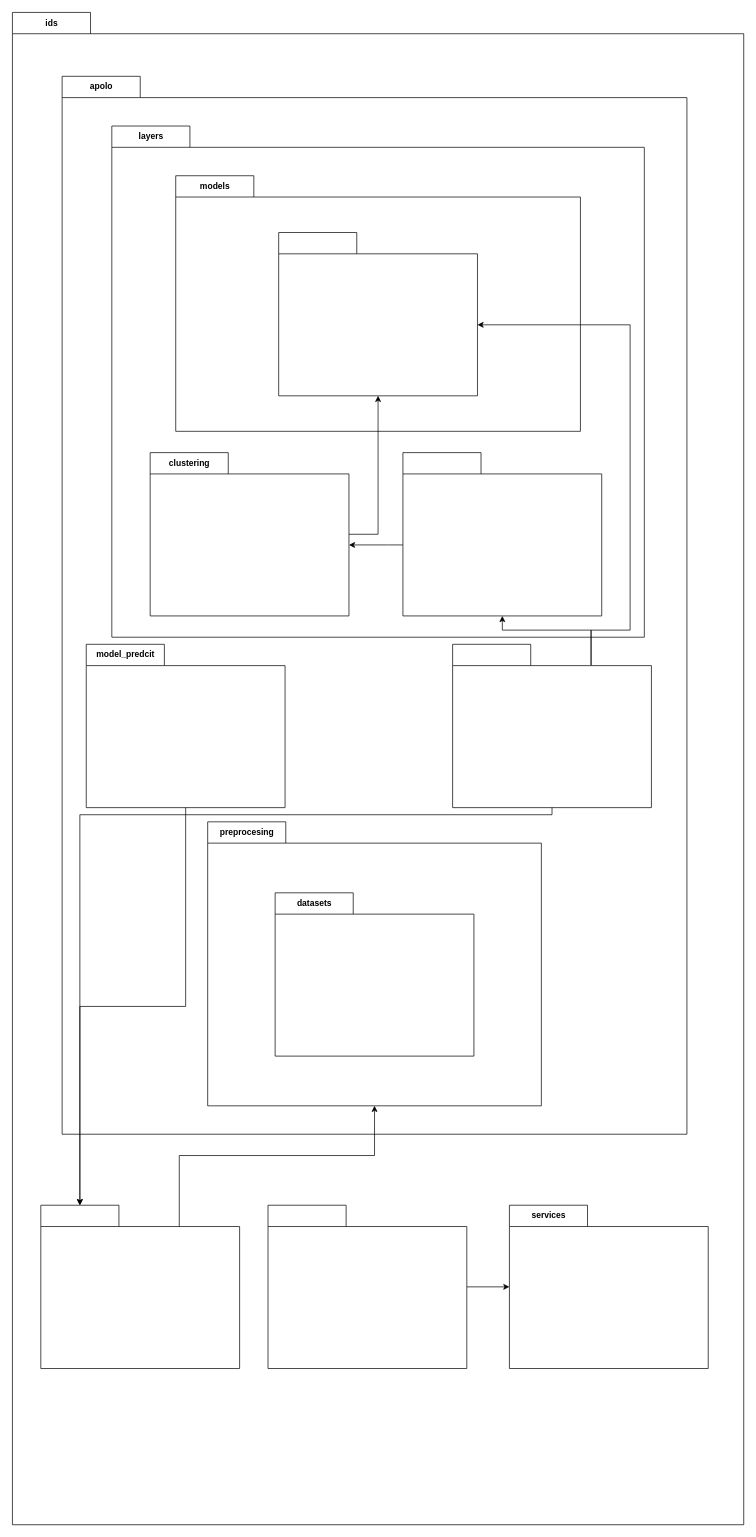
Some shapes in this 756 by 1537 pixel diagram are drawn without their labels. The centre of each missing label's shape, as x and y in pixels:
all_models: point (377, 314)
mab: point (502, 534)
model_train: point (551, 726)
storaged: point (367, 1287)
utils: point (140, 1287)
